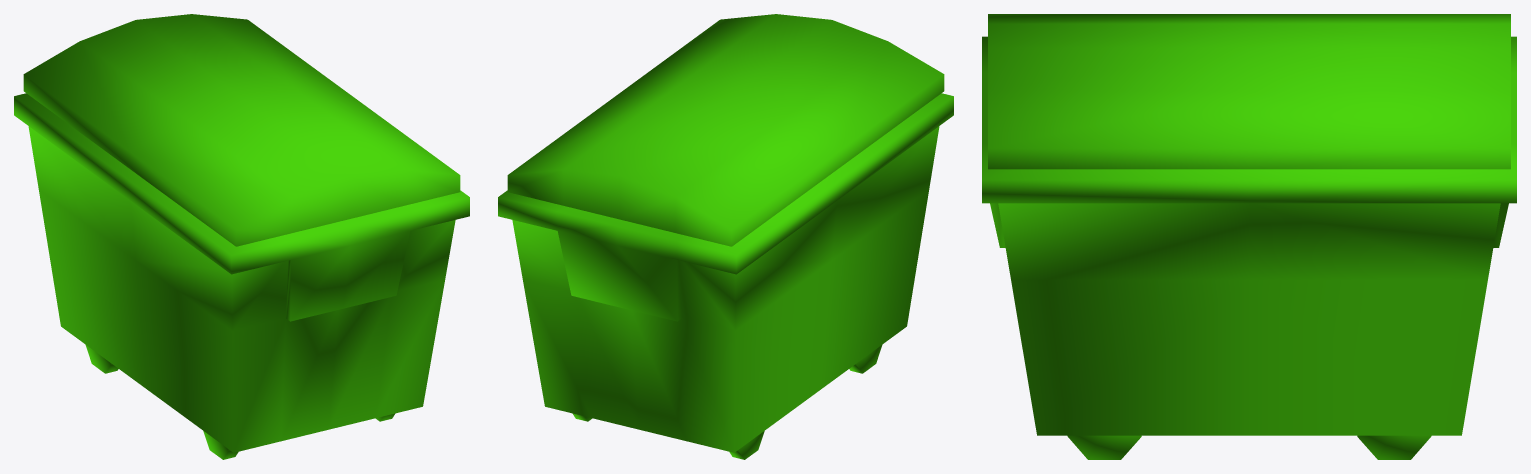
File: Container.fbx
The picture shows the model from 3 angles, left to right: view 1: azimuth 30°, elevation 25°; view 2: azimuth 150°, elevation 25°; view 3: azimuth 270°, elevation 25°; orthographic projection. The views are drawn at different scales.
Visible parts, largest first — view 1: Container; view 2: Container; view 3: Container.
Part boxes in pixels (left/top/right/bottom): Container: left=14, top=14, right=469, bottom=459; Container: left=498, top=14, right=953, bottom=459; Container: left=982, top=14, right=1516, bottom=459.
Bounding box in the file's own units: 252 × 296 × 398.
